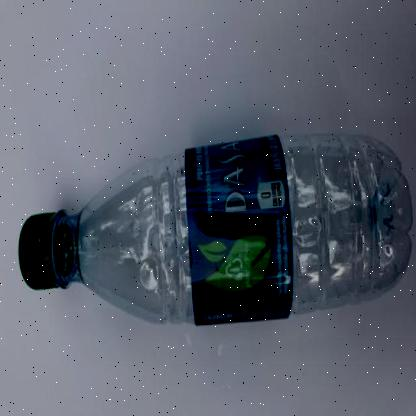Plastic Bottle: (19, 135, 413, 325)
